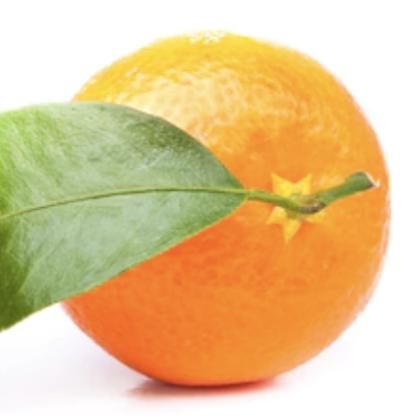fresh: (39, 32, 392, 386)
